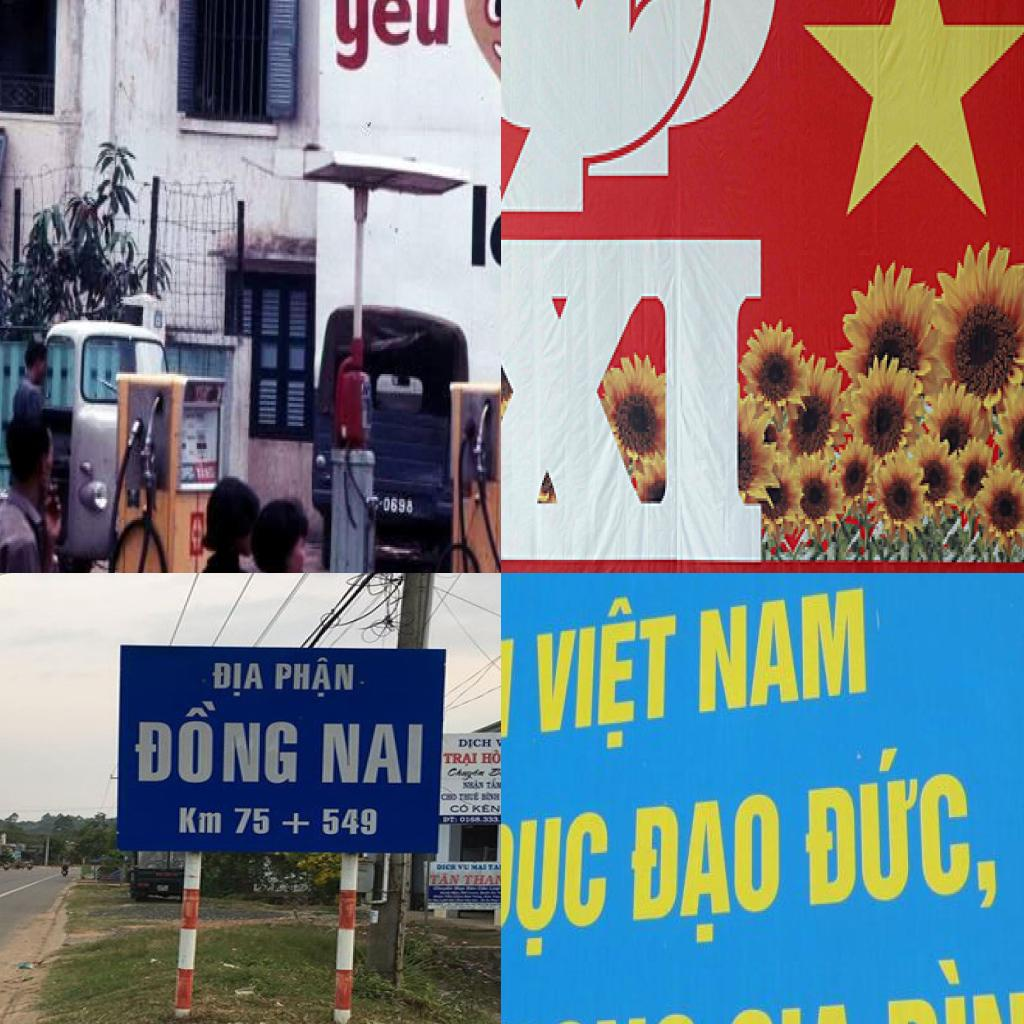text: (798, 733, 1003, 918), (529, 590, 678, 762), (620, 790, 781, 946), (693, 580, 872, 720), (501, 808, 612, 956), (128, 698, 302, 786), (332, 0, 456, 78), (314, 721, 428, 788), (270, 656, 358, 701), (468, 180, 501, 276), (207, 660, 268, 698), (173, 804, 227, 837), (317, 808, 378, 836), (229, 806, 274, 838), (382, 495, 417, 518), (441, 751, 482, 769), (280, 813, 311, 836), (444, 766, 486, 782), (461, 872, 501, 885), (429, 872, 462, 886), (471, 801, 501, 815), (456, 739, 494, 750), (479, 750, 501, 766), (448, 802, 471, 816), (460, 781, 486, 792), (441, 815, 460, 825), (492, 736, 501, 749)
